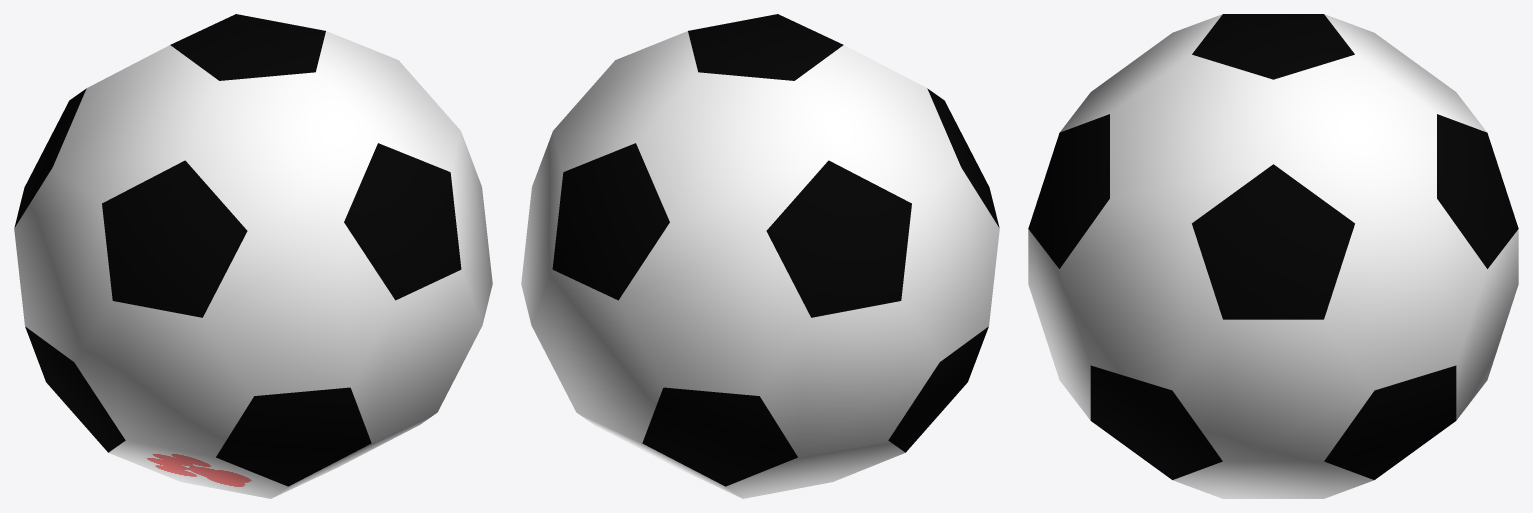
Rendered from soccerball.glb.
3 renders of one model, left to right at view 1: azimuth 30°, elevation 25°; view 2: azimuth 150°, elevation 25°; view 3: azimuth 270°, elevation 25°, orthographic. The views are drawn at different scales.
Parts seen in each view (by area): view 1: Icosphere; view 2: Icosphere; view 3: Icosphere.
Part boxes in pixels (x1=…): Icosphere: x1=14, y1=14, x2=492, y2=498; Icosphere: x1=521, y1=14, x2=999, y2=498; Icosphere: x1=1028, y1=14, x2=1518, y2=498.
Size of the model in its own units: 1.67 by 1.63 by 1.7.
Materials: 1 (1 with a texture image).
